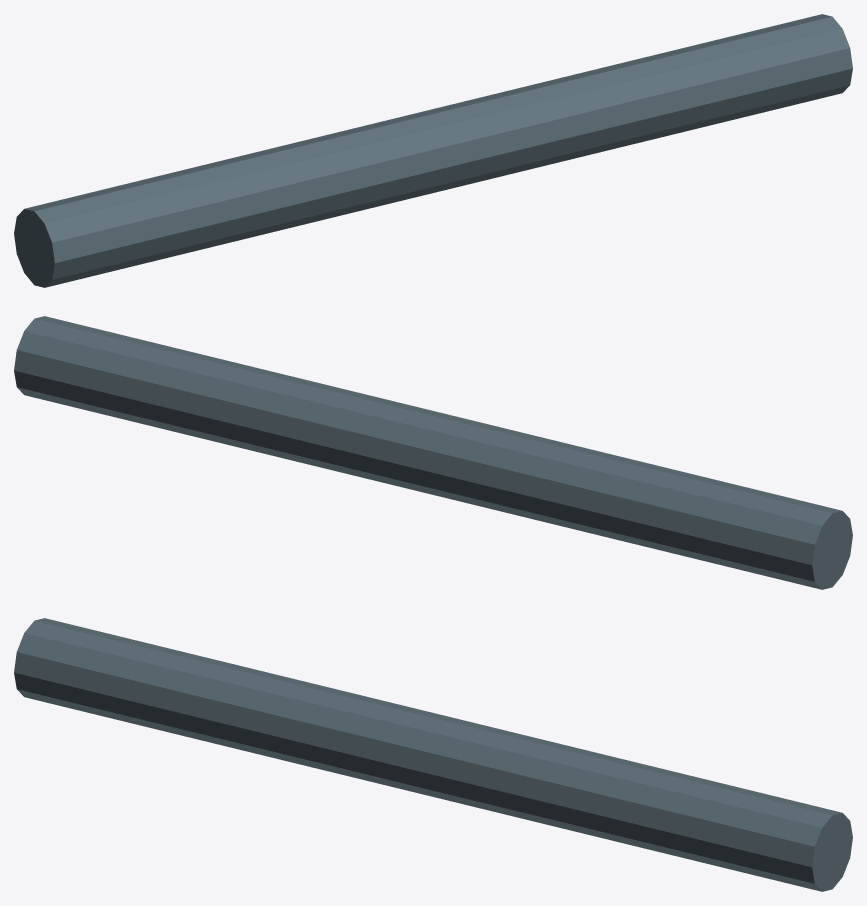
Rendered from SM_Factory_Small_pipe_5m.glb.
The picture shows the model from 3 angles, top to bottom: view 1: azimuth 30°, elevation 25°; view 2: azimuth 150°, elevation 25°; view 3: azimuth 330°, elevation 25°; orthographic projection.
Parts seen in each view (by area): view 1: SM_Factory_Small_pipe_5m; view 2: SM_Factory_Small_pipe_5m; view 3: SM_Factory_Small_pipe_5m.
Boxes of the visible parts, bbox=[...] form: SM_Factory_Small_pipe_5m: bbox=[14, 14, 852, 287]; SM_Factory_Small_pipe_5m: bbox=[14, 316, 852, 589]; SM_Factory_Small_pipe_5m: bbox=[14, 618, 852, 891].
Size of the model in its own units: 5 by 0.4433 by 0.4433.
Materials: 1 (1 with a texture image).
